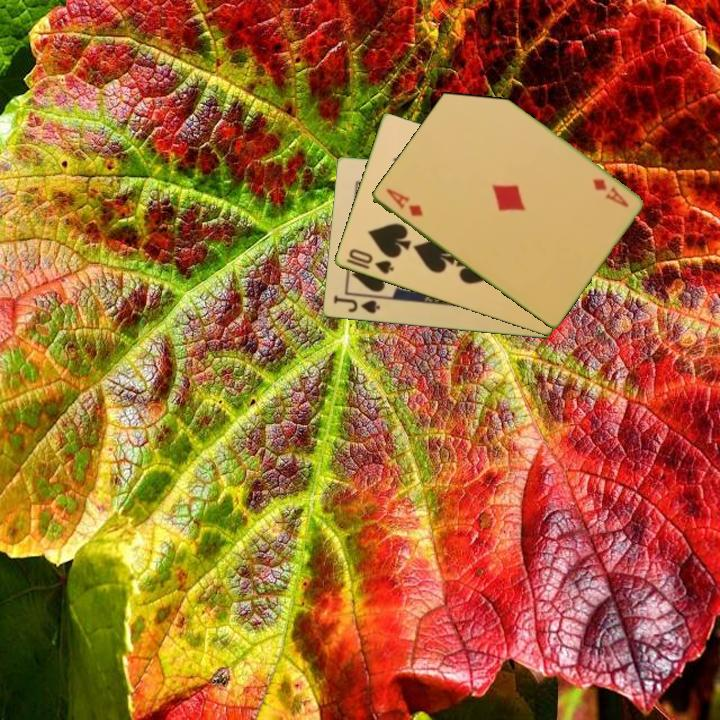10s: (343, 245, 396, 277)
Ad: (382, 185, 426, 220), (589, 175, 631, 210)
Js: (330, 291, 382, 316)
